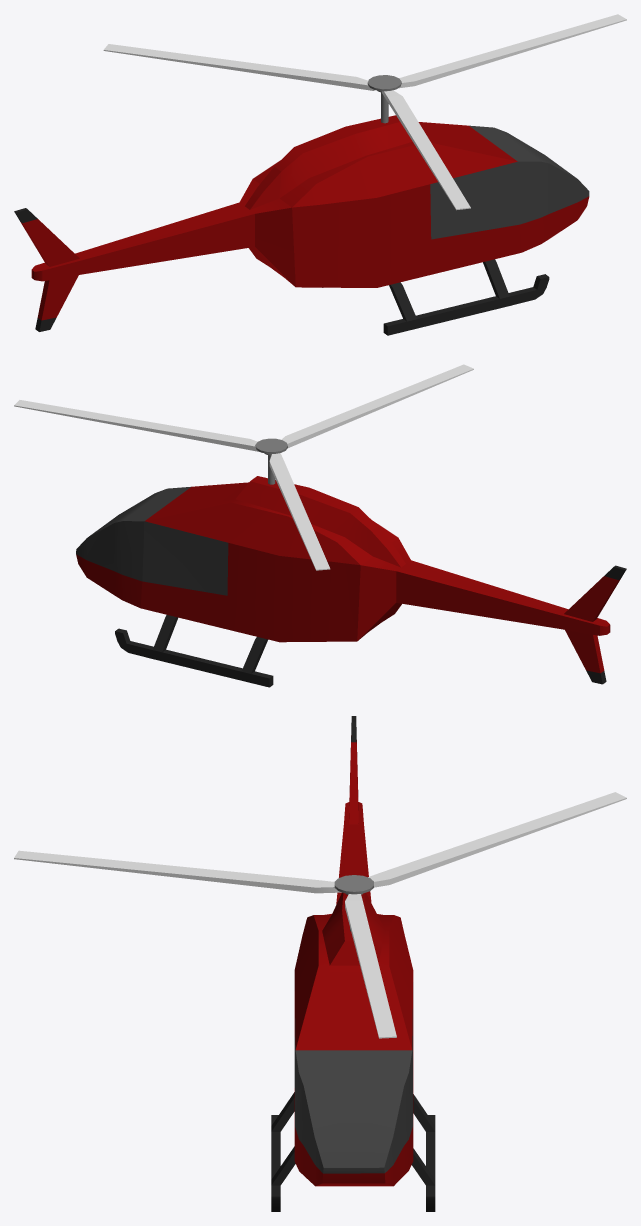
File: HeliCopter2023.fbx
3 views of the same model, one above another, from view 1: azimuth 30°, elevation 25°; view 2: azimuth 150°, elevation 25°; view 3: azimuth 270°, elevation 25° (orthographic). The views are drawn at different scales.
Parts seen in each view (by area): view 1: polySurface3, polySurface2, polySurface5, pCylinder1; view 2: polySurface3, polySurface2, polySurface4, pCylinder1; view 3: polySurface3, polySurface2, polySurface5, polySurface4.
Boxes of the visible parts, bbox=[...] form: polySurface3: bbox=[14, 115, 589, 331]; polySurface2: bbox=[103, 14, 626, 210]; polySurface5: bbox=[383, 259, 549, 335]; pCylinder1: bbox=[367, 75, 401, 123]; polySurface3: bbox=[76, 476, 626, 684]; polySurface2: bbox=[14, 364, 473, 570]; polySurface4: bbox=[115, 615, 273, 687]; pCylinder1: bbox=[255, 438, 287, 484]; polySurface3: bbox=[294, 716, 413, 1186]; polySurface2: bbox=[14, 792, 626, 1038]; polySurface5: bbox=[271, 1092, 295, 1211]; polySurface4: bbox=[411, 1094, 435, 1211].
Size of the model in its own units: 13.64 by 4.61 by 9.8.
